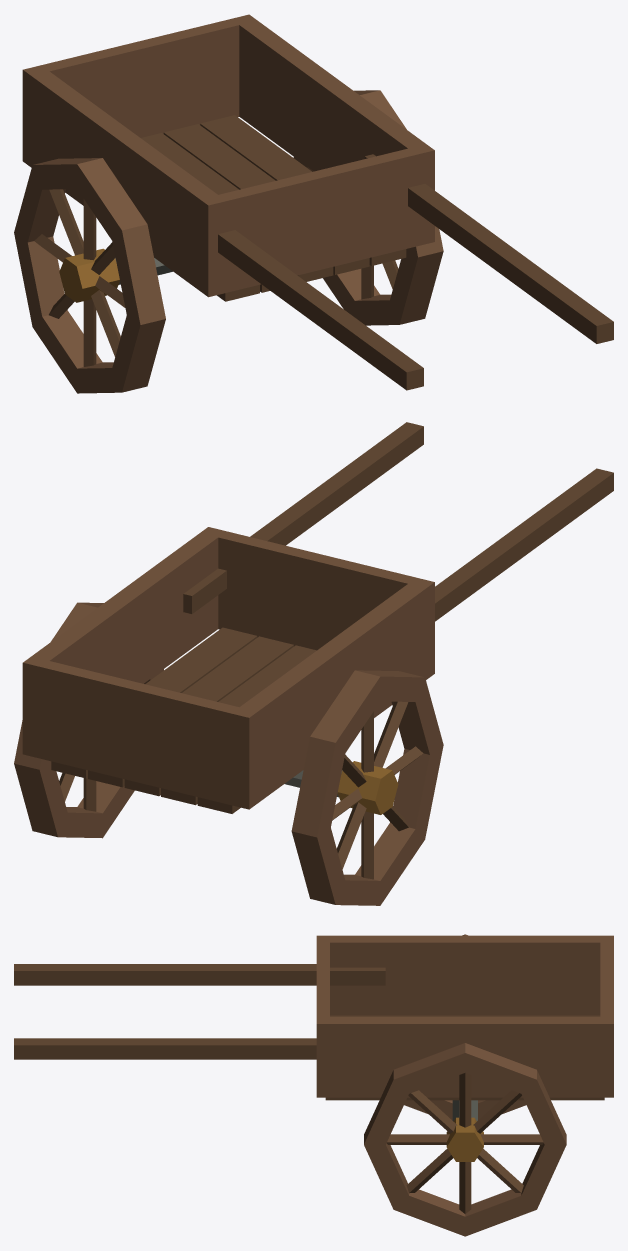
Rendered from cart.glb.
3 views of the same model, one above another, from view 1: azimuth 30°, elevation 25°; view 2: azimuth 150°, elevation 25°; view 3: azimuth 270°, elevation 25° (orthographic). The views are drawn at different scales.
Parts seen in each view (by area): view 1: cart_body, wheel_l, wheel_r; view 2: cart_body, wheel_l, wheel_r; view 3: cart_body, wheel_r, wheel_l.
Part boxes in pixels (left/top/right/bottom): cart_body: left=22, top=14, right=613, bottom=390; wheel_l: left=14, top=158, right=165, bottom=393; wheel_r: left=293, top=90, right=443, bottom=325; cart_body: left=22, top=422, right=613, bottom=813; wheel_l: left=291, top=670, right=443, bottom=905; wheel_r: left=14, top=602, right=163, bottom=838; cart_body: left=14, top=935, right=613, bottom=1121; wheel_r: left=364, top=1043, right=566, bottom=1236; wheel_l: left=404, top=934, right=526, bottom=1120.
Bounding box in the file's own units: 0.5767 × 0.43 × 1.18.
